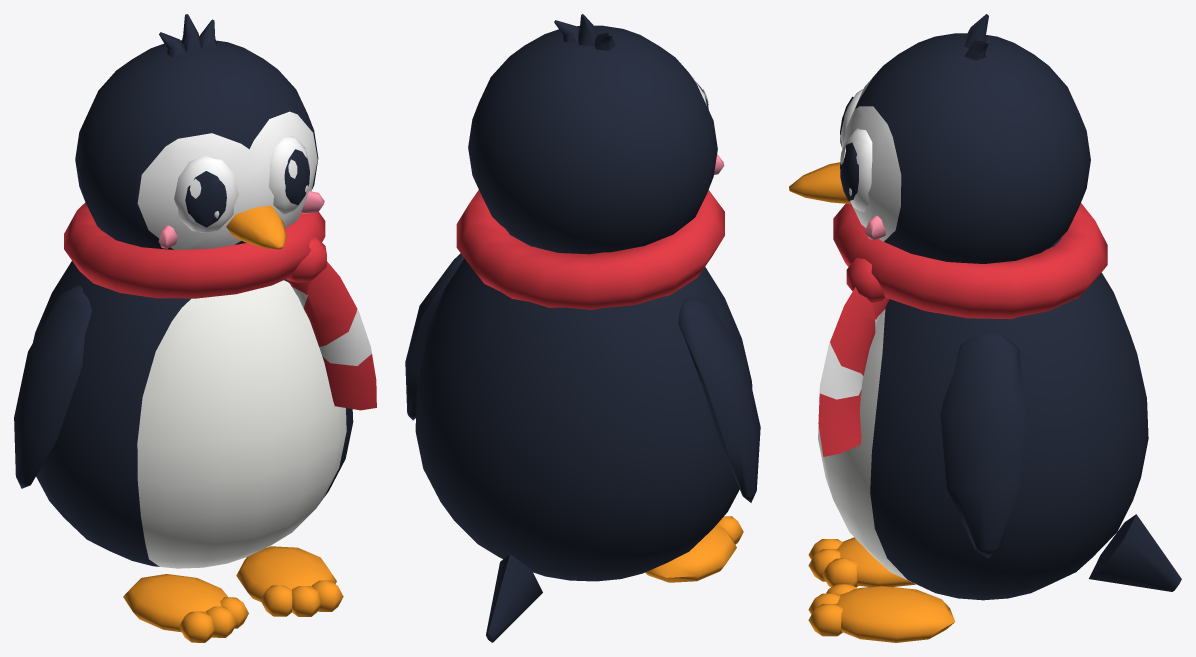
Rendered from penguin.glb.
3 renders of one model, left to right at view 1: azimuth 30°, elevation 25°; view 2: azimuth 150°, elevation 25°; view 3: azimuth 270°, elevation 25°, orthographic. The views are drawn at different scales.
Parts seen in each view (by area): view 1: body, head, flipper_r; view 2: body, head, flipper_r, flipper_l; view 3: body, head, flipper_l.
Boxes of the visible parts, x1,y1,x2,y2 form: body: [33, 202, 376, 642]; head: [75, 14, 324, 250]; flipper_r: [14, 285, 91, 488]; body: [415, 190, 752, 642]; head: [468, 14, 724, 254]; flipper_r: [678, 296, 760, 502]; flipper_l: [405, 253, 464, 420]; body: [808, 203, 1181, 642]; head: [789, 14, 1090, 263]; flipper_l: [940, 330, 1025, 558].
Bounding box in the file's own units: 0.9445 × 1.51 × 0.9119.
